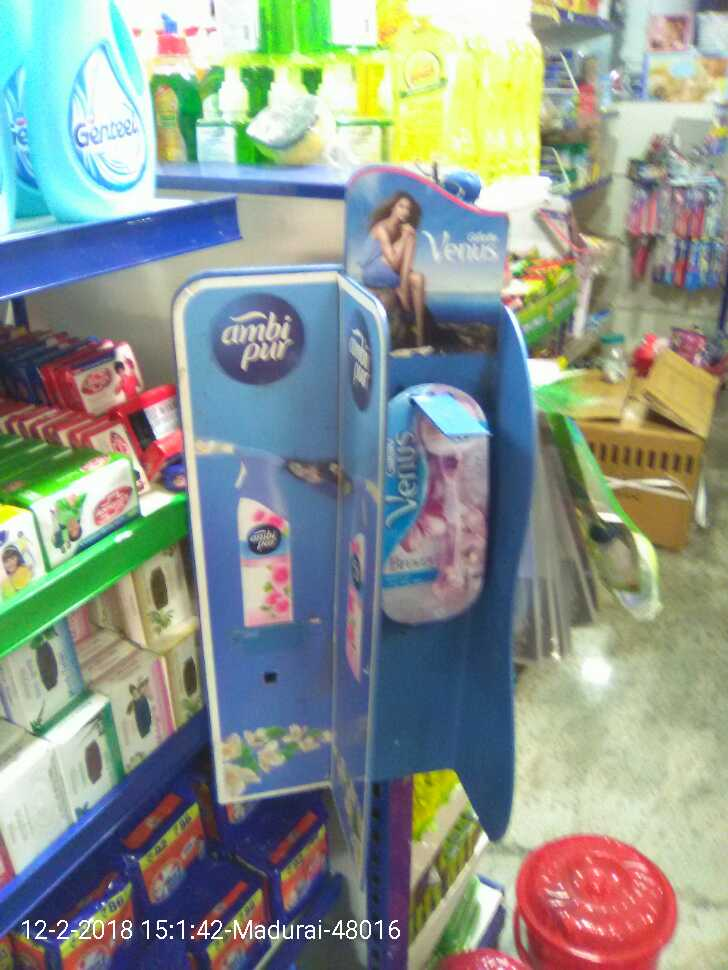venus: (370, 382, 498, 640)
